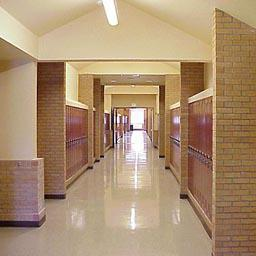Armario: (189, 103, 212, 231), (67, 109, 88, 185), (171, 112, 179, 176)
